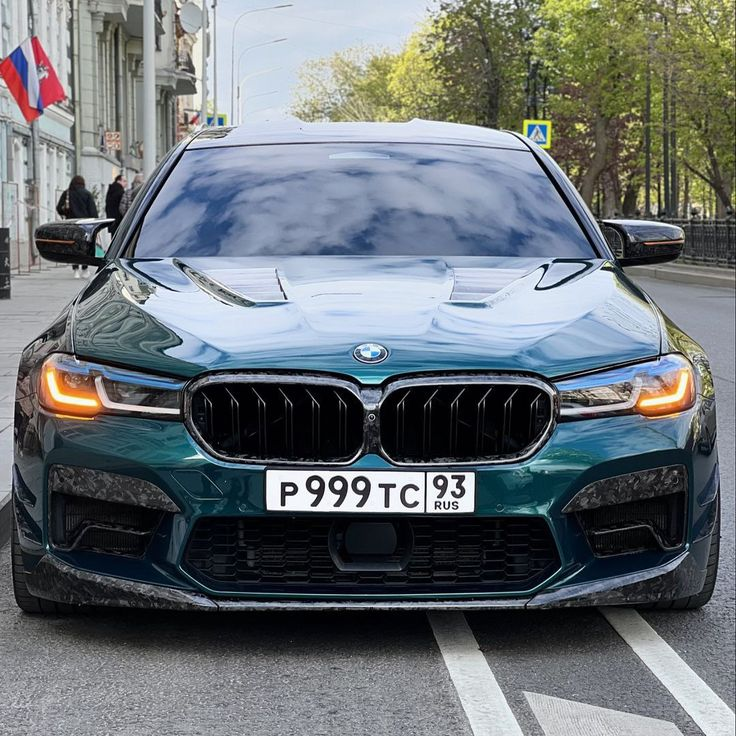plate: (265, 471, 477, 513)
